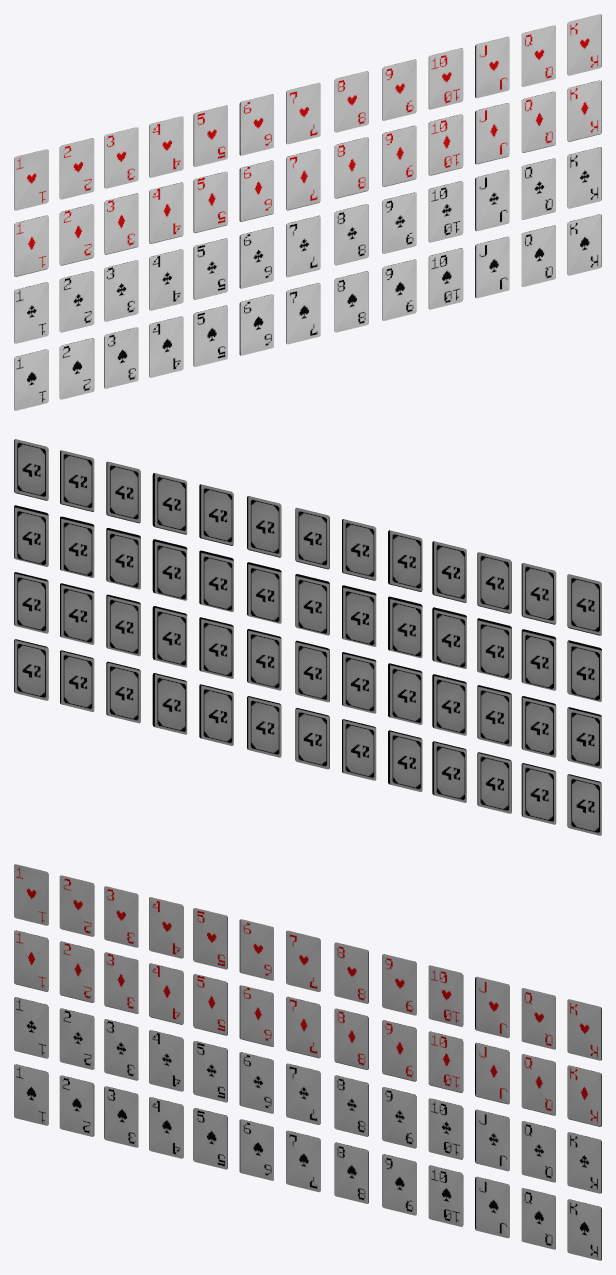
The model's file is cards.gltf.
3 renders of one model, top to bottom at view 1: azimuth 30°, elevation 25°; view 2: azimuth 150°, elevation 25°; view 3: azimuth 330°, elevation 25°, orthographic.
Visible parts, largest first — view 1: Polygon Reduction.1; view 2: Polygon Reduction.1; view 3: Polygon Reduction.1.
Boxes of the visible parts, bbox=[...] form: Polygon Reduction.1: bbox=[14, 14, 601, 410]; Polygon Reduction.1: bbox=[14, 439, 601, 835]; Polygon Reduction.1: bbox=[14, 864, 601, 1260].
Bounding box in the file's own units: 1.37 × 0.5649 × 0.001.
1 material, 1 textured.
